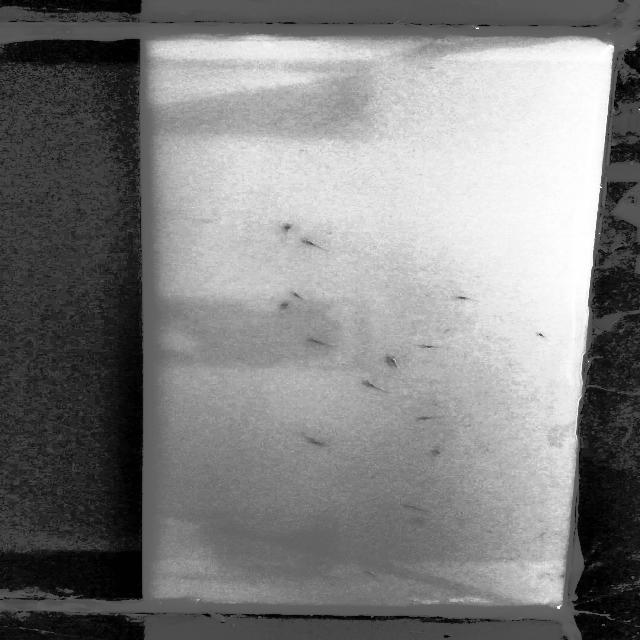shrimp: (303, 435, 342, 450), (362, 377, 397, 393), (298, 238, 330, 253), (403, 501, 432, 515), (386, 353, 404, 371), (415, 414, 446, 424), (306, 336, 334, 347), (416, 344, 460, 351), (452, 293, 487, 301), (281, 219, 295, 237), (358, 568, 382, 578), (534, 330, 554, 341), (426, 443, 441, 455), (274, 301, 298, 308), (288, 290, 308, 298)
